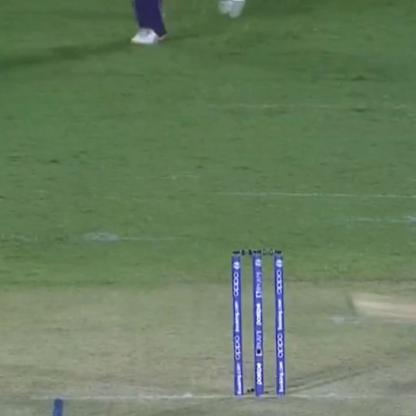bat: (348, 292, 416, 328)
